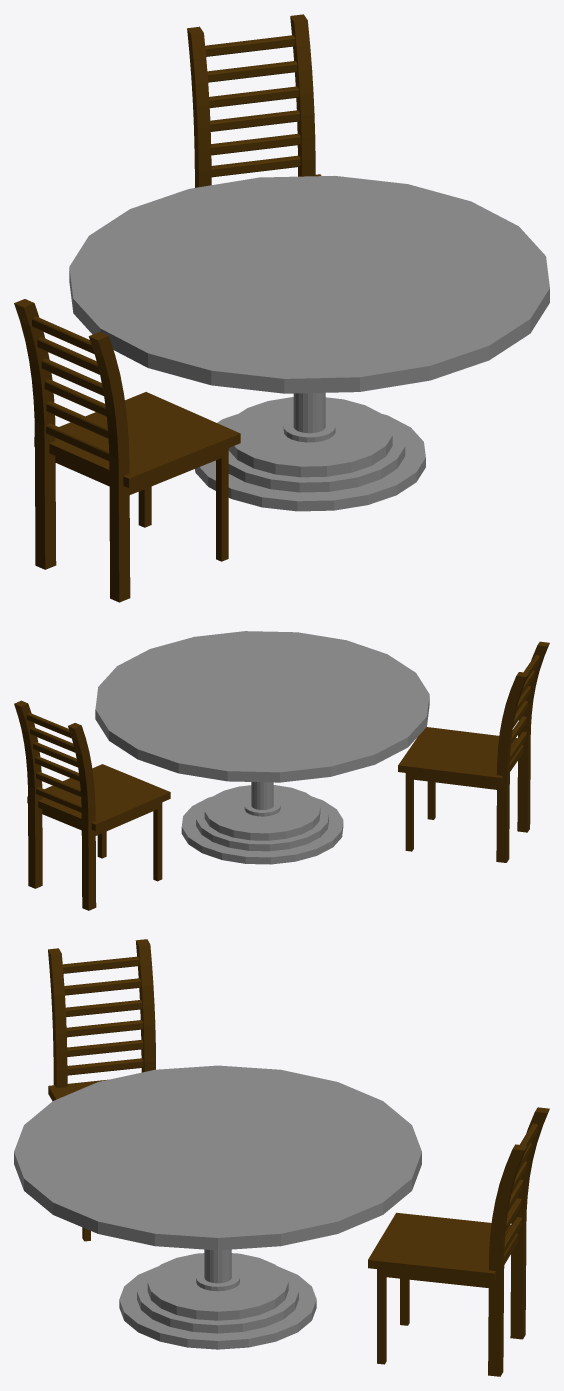
The model's file is table_chair.fbx.
The picture shows the model from 3 angles, top to bottom: view 1: azimuth 30°, elevation 25°; view 2: azimuth 150°, elevation 25°; view 3: azimuth 270°, elevation 25°; orthographic projection. The views are drawn at different scales.
Parts seen in each view (by area): view 1: pasted__pCylinder5, pasted__chair1_pasted__pCube6, pasted__pasted__chair1_pasted__pasted__pCube6; view 2: pasted__pCylinder5, pasted__pasted__chair1_pasted__pasted__pCube6, pasted__chair1_pasted__pCube6; view 3: pasted__pCylinder5, pasted__pasted__chair1_pasted__pasted__pCube6, pasted__chair1_pasted__pCube6.
Part boxes in pixels (left/top/right/bottom): pasted__pCylinder5: left=69, top=175, right=549, bottom=511; pasted__chair1_pasted__pCube6: left=14, top=299, right=240, bottom=602; pasted__pasted__chair1_pasted__pasted__pCube6: left=187, top=14, right=321, bottom=187; pasted__pCylinder5: left=95, top=631, right=429, bottom=864; pasted__pasted__chair1_pasted__pasted__pCube6: left=14, top=700, right=170, bottom=910; pasted__chair1_pasted__pCube6: left=398, top=641, right=549, bottom=862; pasted__pCylinder5: left=14, top=1065, right=421, bottom=1349; pasted__pasted__chair1_pasted__pasted__pCube6: left=368, top=1107, right=549, bottom=1376; pasted__chair1_pasted__pCube6: left=48, top=939, right=155, bottom=1241.
Size of the model in its own units: 252 by 120 by 253.
